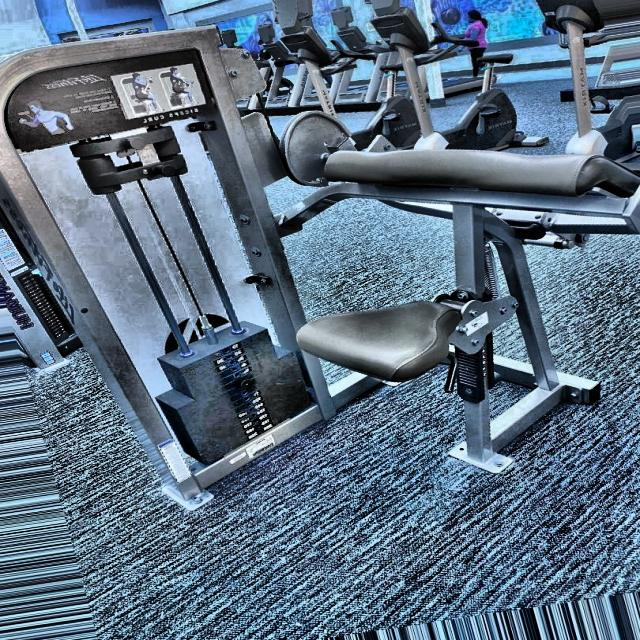bicep_curl_machine: (220, 20, 639, 480), (0, 48, 210, 158)
